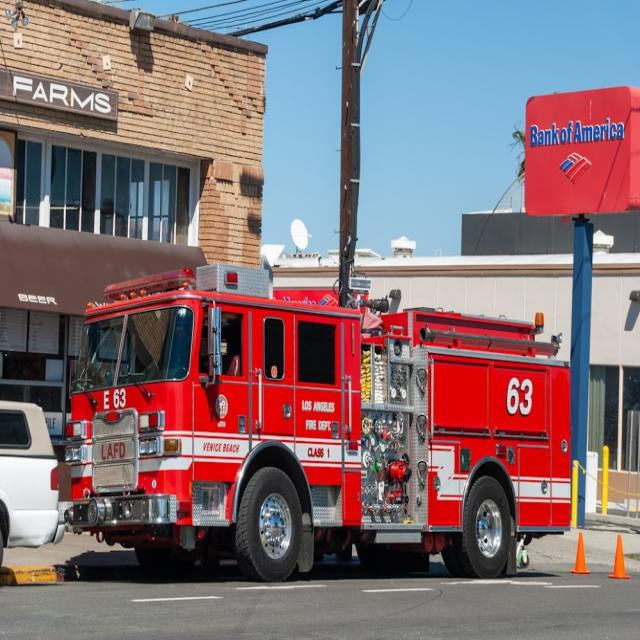emergency: (66, 265, 570, 580)
